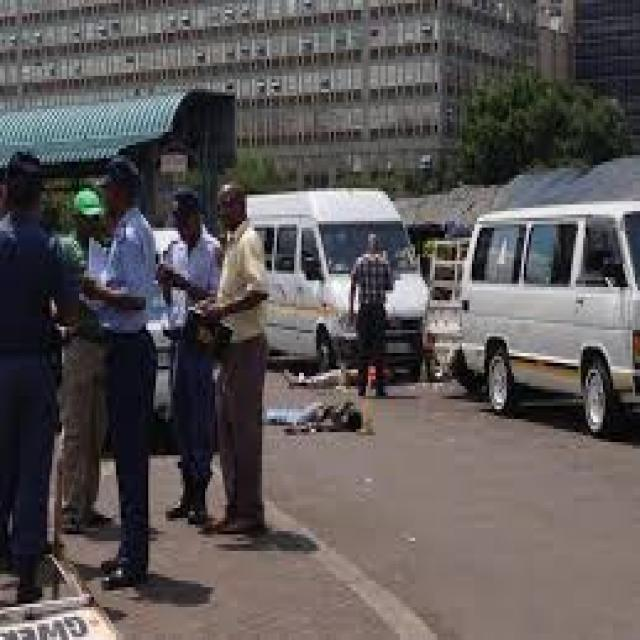MiniBus taxi: (459, 208, 640, 439), (242, 172, 433, 372)
Pedestrians: (2, 145, 86, 604), (94, 152, 158, 600), (217, 172, 277, 541), (158, 178, 215, 541), (354, 228, 391, 402)
